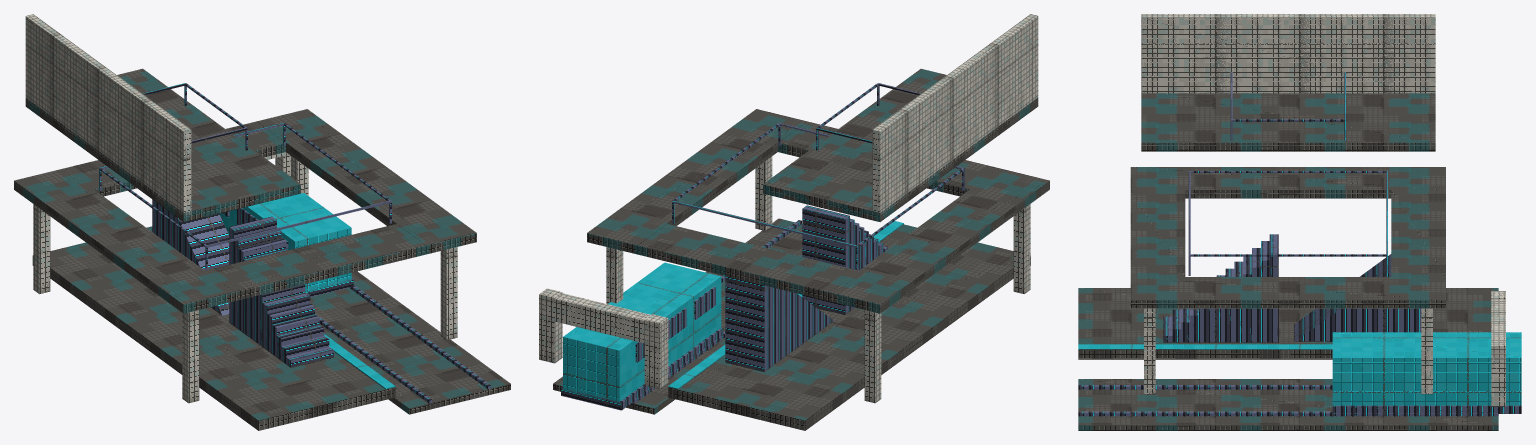
The model's file is lm_stacked_interchange.glb.
3 renders of one model, left to right at view 1: azimuth 30°, elevation 25°; view 2: azimuth 150°, elevation 25°; view 3: azimuth 270°, elevation 25°, orthographic. The views are drawn at different scales.
Visible parts, largest first — view 1: lm_stacked_interchange; view 2: lm_stacked_interchange; view 3: lm_stacked_interchange.
Part boxes in pixels (x1,y1,x2,y2): lm_stacked_interchange: [14, 14, 510, 430]; lm_stacked_interchange: [539, 14, 1049, 430]; lm_stacked_interchange: [1078, 14, 1521, 430].
Bounding box in the file's own units: 15.8 × 14.9 × 21.1.
Materials: 41 (41 with a texture image).
